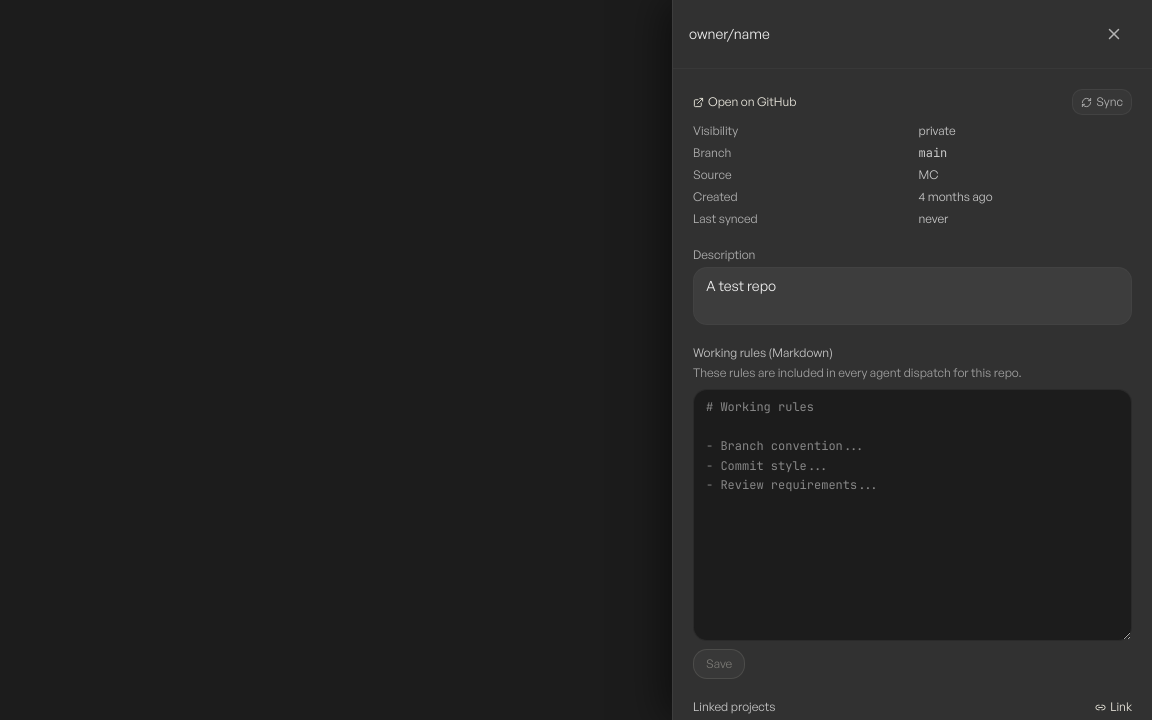
Test case: RepoDetailPanel › saves edited rules via PATCH and shows a confirmation
The image size is (1152, 720).
Type "# Rules" into the text box labelled "Working rules (Markdown)" at {"x": 912, "y": 515}, box [693,389,1132,641]
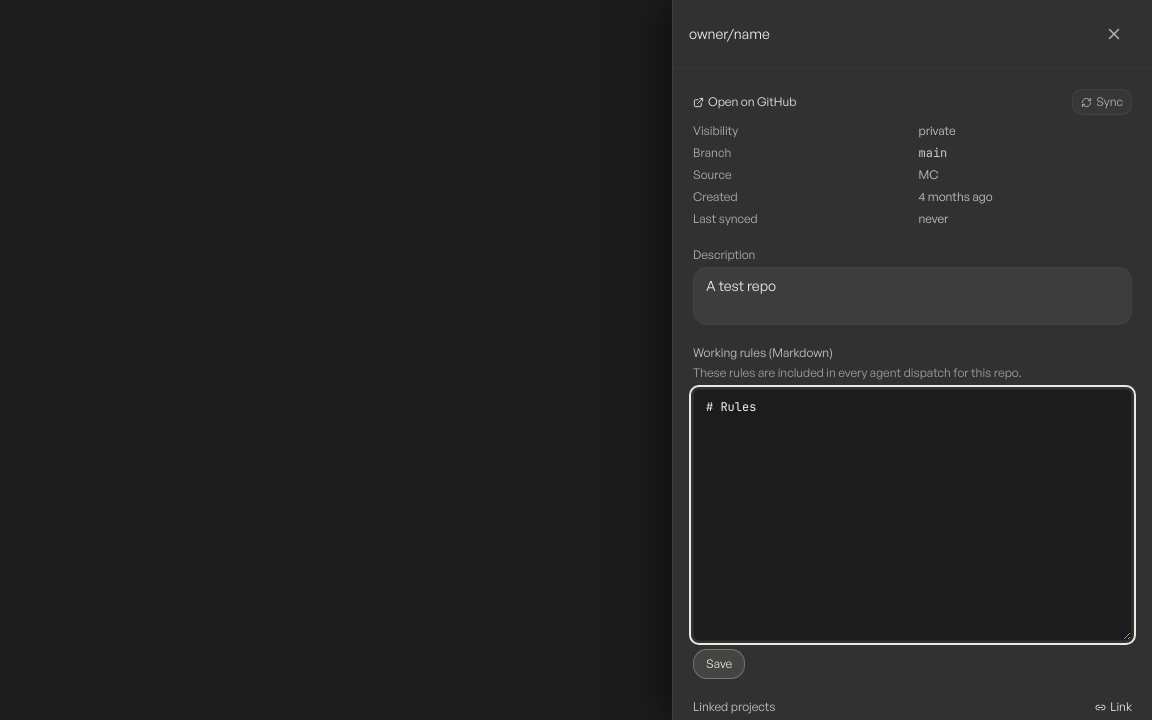
Expected: the button "Save" is enabled
Click the button "Save" at {"x": 719, "y": 664}, box [693,649,745,679]
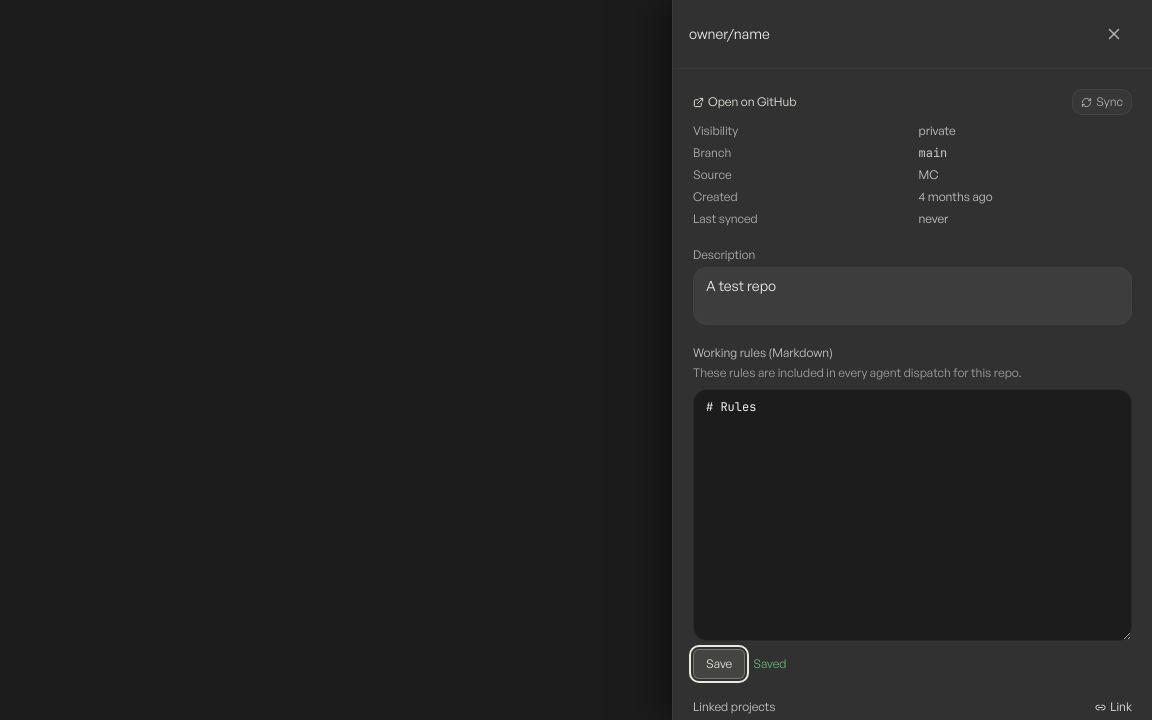
Expected: the text "Saved" is shown, [753,656,786,672]
